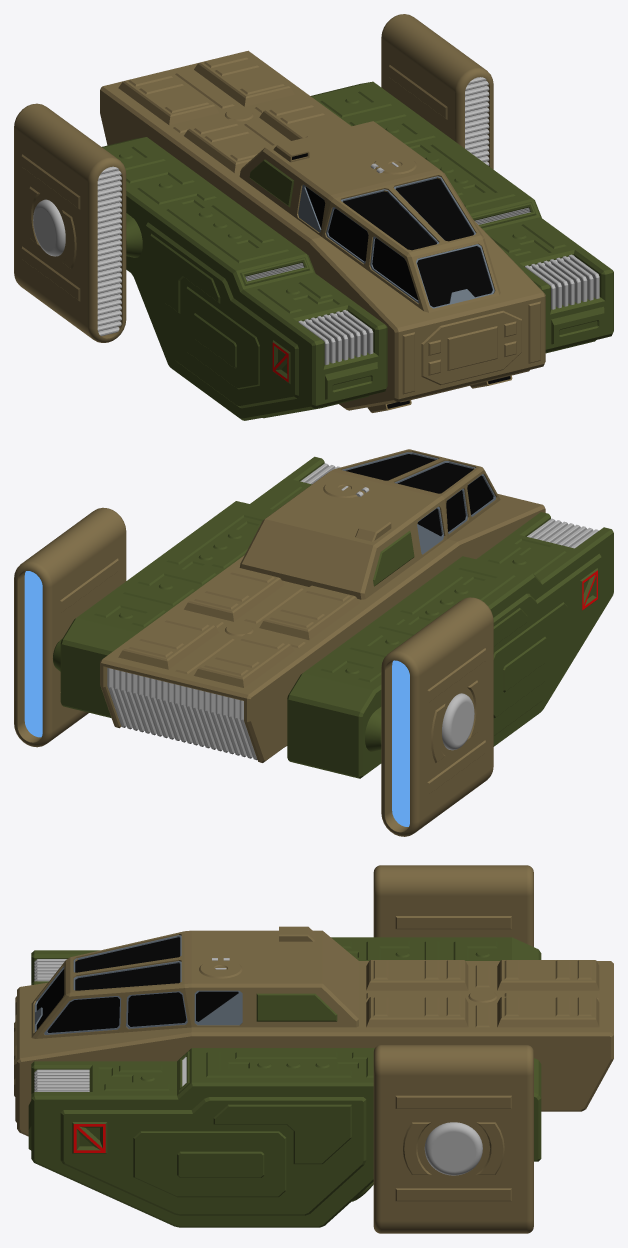
The model's file is assets-game7.glb.
3 views of the same model, one above another, from view 1: azimuth 30°, elevation 25°; view 2: azimuth 150°, elevation 25°; view 3: azimuth 270°, elevation 25° (orthographic).
Parts seen in each view (by area): view 1: Object_6, Object_4, Object_8, Object_5, Object_2; view 2: Object_6, Object_4, Object_8, Object_3, Object_5, Object_2; view 3: Object_6, Object_4, Object_5, Object_2, Object_9, Object_8.
Part boxes in pixels (<box>): Object_6: <box>14,14,545,412</box>; Object_4: <box>102,81,613,420</box>; Object_8: <box>33,77,599,364</box>; Object_5: <box>292,153,510,408</box>; Object_2: <box>298,176,494,308</box>; Object_6: <box>14,449,545,836</box>; Object_4: <box>53,456,613,778</box>; Object_8: <box>107,463,598,760</box>; Object_3: <box>24,571,409,826</box>; Object_5: <box>346,454,493,536</box>; Object_2: <box>342,452,495,554</box>; Object_6: <box>14,865,613,1233</box>; Object_4: <box>28,937,541,1227</box>; Object_5: <box>36,937,238,1032</box>; Object_2: <box>34,935,242,1034</box>; Object_9: <box>424,1122,482,1175</box>; Object_8: <box>34,958,229,1091</box>.
Bounding box in the file's own units: 1660 × 780 × 2060.
